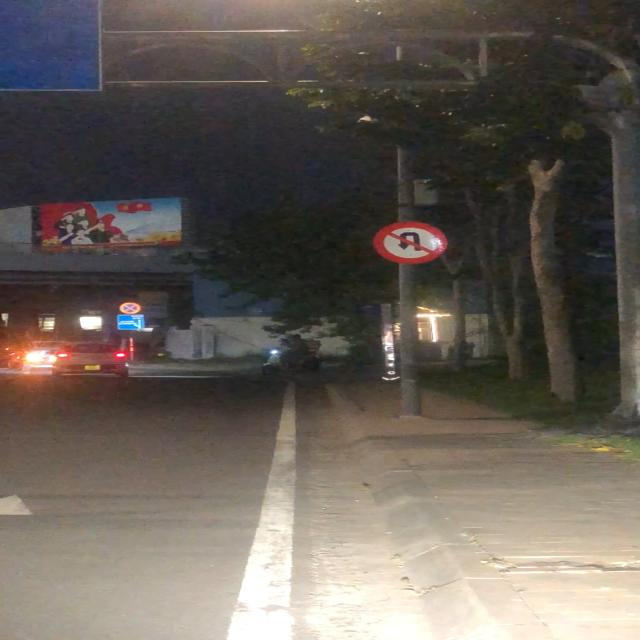Bien bao cam dung xe va do xe: (119, 301, 141, 316)
Bien bao cam quay dau xe: (372, 220, 454, 266)
